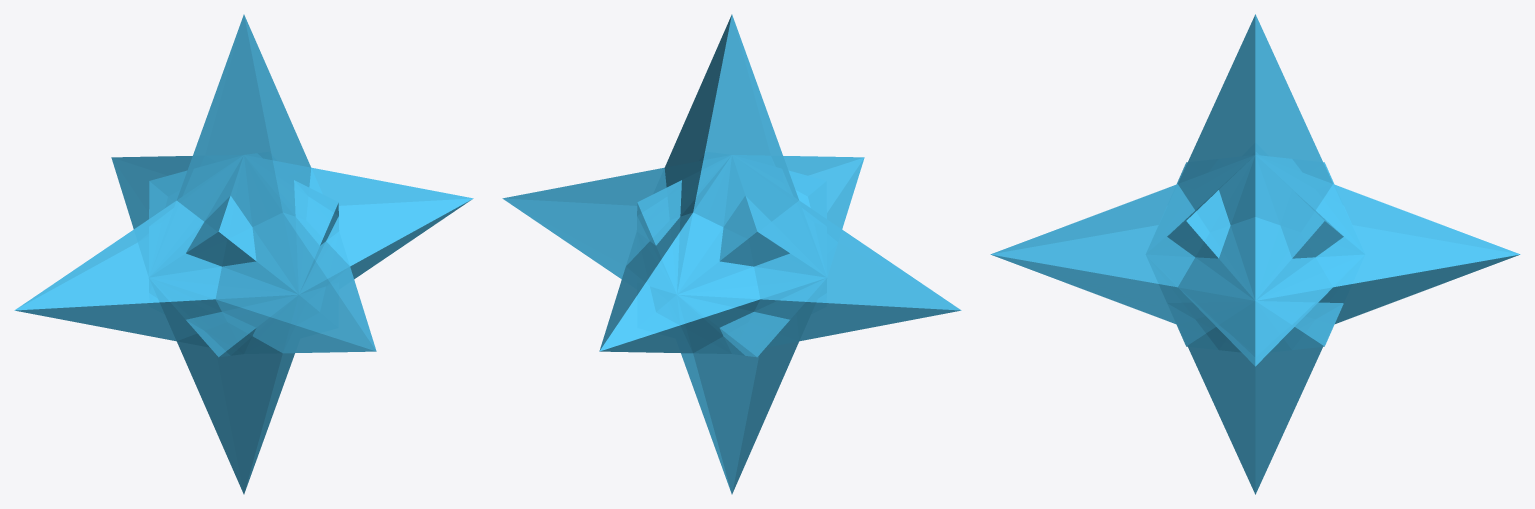
File: GreatHexacronicIcositetrahedron.obj
The picture shows the model from 3 angles, left to right: view 1: azimuth 30°, elevation 25°; view 2: azimuth 150°, elevation 25°; view 3: azimuth 270°, elevation 25°; orthographic projection.
Size of the model in its own units: 2.83 by 2.83 by 2.83.
